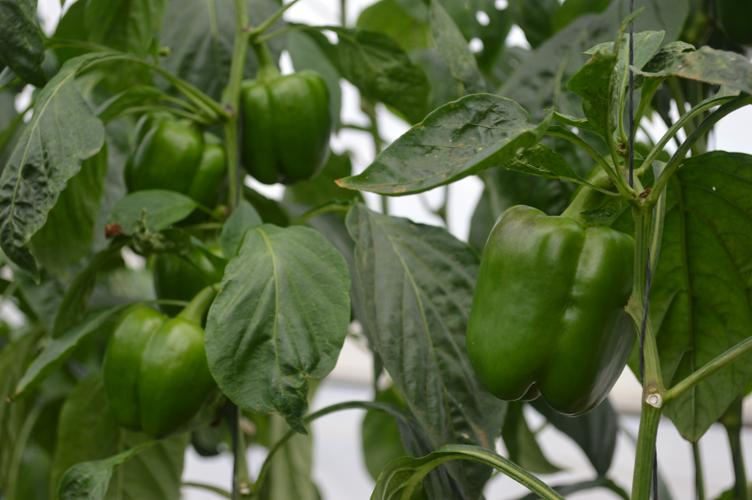BellPepper: (464, 207, 635, 416), (102, 307, 220, 431), (245, 72, 332, 186), (127, 115, 228, 207), (154, 245, 220, 313)
